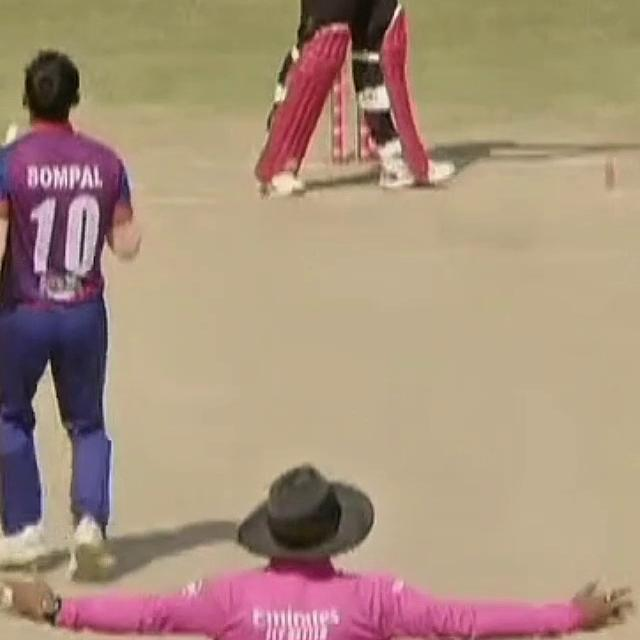umpire: (0, 450, 640, 640), (0, 465, 640, 640)
